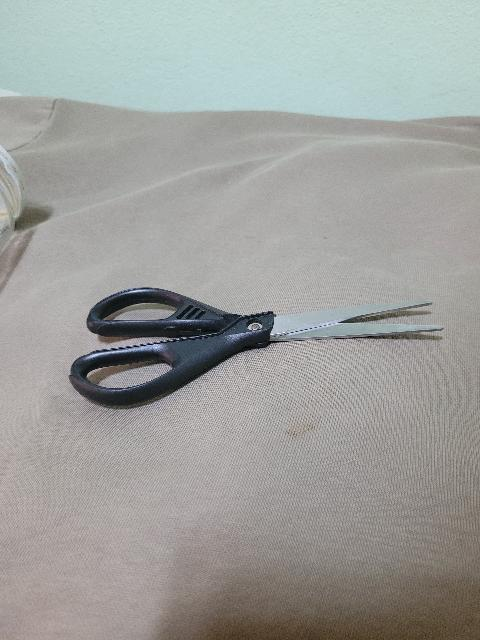Metal: (271, 296, 446, 347)
Plastik: (69, 282, 274, 407)
